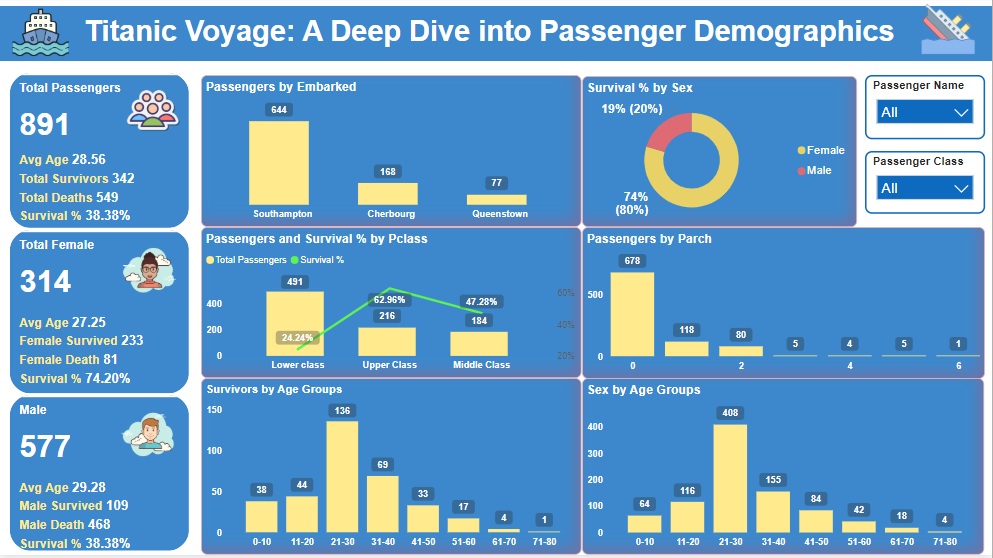

Layout of this report page (visuals, bound fields, positions):
{"tool":"powerbi","page":{"name":"Page 1","canvas":[1280,720],"ordinal":0},"visuals":[{"type":"textbox","box":[0,11,1280,71],"z":0},{"type":"image","box":[0,0,105.7,93.1],"z":1000},{"type":"image","box":[1166.4,0,113.6,82.1],"z":2000},{"type":"cardVisual","fields":{"Data":["Measures Table.Total Passengers"]},"box":[7.7,92.9,241.3,210.3],"z":3000},{"type":"cardVisual","fields":{"Data":["Measures Table.Male"]},"box":[7.7,508.4,241.3,211.6],"z":4000},{"type":"cardVisual","fields":{"Data":["Measures Table.Female"]},"box":[7.7,294.8,241.3,221.9],"z":5000},{"type":"columnChart","title":"Survivors by Age Groups","fields":{"Category":["Titanic.Age (groups)"],"Y":["Measures Table.Total Survivors"]},"box":[259.7,492.1,491,228.1],"z":6000},{"type":"columnChart","title":"Passengers by Embarked","fields":{"Category":["Titanic.Embarked"],"Y":["Measures Table.Total Passengers"]},"box":[259.7,100.4,491,196.4],"z":7000},{"type":"lineStackedColumnComboChart","title":"Passengers and Survival % by Pclass","fields":{"Category":["Titanic.Pclass"],"Y":["Measures Table.Total Passengers"],"Y2":["Measures Table.Survival %"]},"box":[259.7,296.8,491,195.3],"z":8000},{"type":"donutChart","fields":{"Y":["Measures Table.Survival %"],"Category":["Titanic.Sex"]},"box":[750.8,101.5,354.6,195.3],"z":8001},{"type":"columnChart","title":"Sex by Age Groups","fields":{"Category":["Titanic.Age (groups)"],"Y":["CountNonNull(Titanic.Sex)"]},"box":[751,491.6,518.7,228.4],"z":8002},{"type":"columnChart","title":"Passengers by Parch","fields":{"Y":["Measures Table.Total Passengers"],"Category":["Titanic.Parch"]},"box":[751.4,296.9,519.6,195.7],"z":8003},{"type":"slicer","title":"Passenger Name","fields":{"Values":["Titanic.Name"]},"box":[1116.1,100.6,154.8,82.6],"z":8004},{"type":"slicer","title":"Passenger Class","fields":{"Values":["Titanic.Pclass"]},"box":[1116.1,198.7,154.8,81.3],"z":8005}]}

Visuals, with their boxes in screenshot pixels (x1, y1, x2, y2), scaled from the page's 1280x720 canvas onto the 993x558 screenshot:
textbox: (left=0, top=9, right=992, bottom=64)
image: (left=0, top=0, right=82, bottom=72)
image: (left=905, top=0, right=992, bottom=64)
cardVisual - Measures Table.Total Passengers: (left=6, top=72, right=193, bottom=235)
cardVisual - Measures Table.Male: (left=6, top=394, right=193, bottom=557)
cardVisual - Measures Table.Female: (left=6, top=228, right=193, bottom=400)
"Survivors by Age Groups" columnChart: (left=201, top=381, right=582, bottom=557)
"Passengers by Embarked" columnChart: (left=201, top=78, right=582, bottom=230)
"Passengers and Survival % by Pclass" lineStackedColumnComboChart: (left=201, top=230, right=582, bottom=381)
donutChart - Measures Table.Survival % x Titanic.Sex: (left=582, top=79, right=858, bottom=230)
"Sex by Age Groups" columnChart: (left=583, top=381, right=985, bottom=557)
"Passengers by Parch" columnChart: (left=583, top=230, right=986, bottom=382)
"Passenger Name" slicer: (left=866, top=78, right=986, bottom=142)
"Passenger Class" slicer: (left=866, top=154, right=986, bottom=217)
